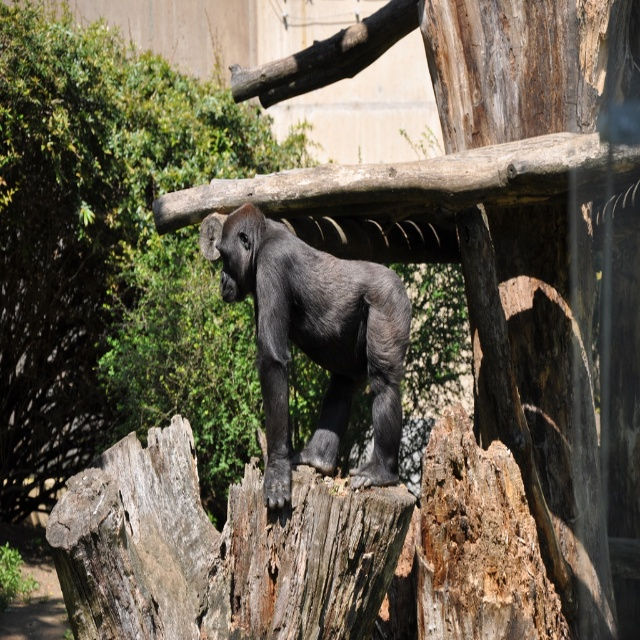Monkey: (216, 199, 411, 513)
